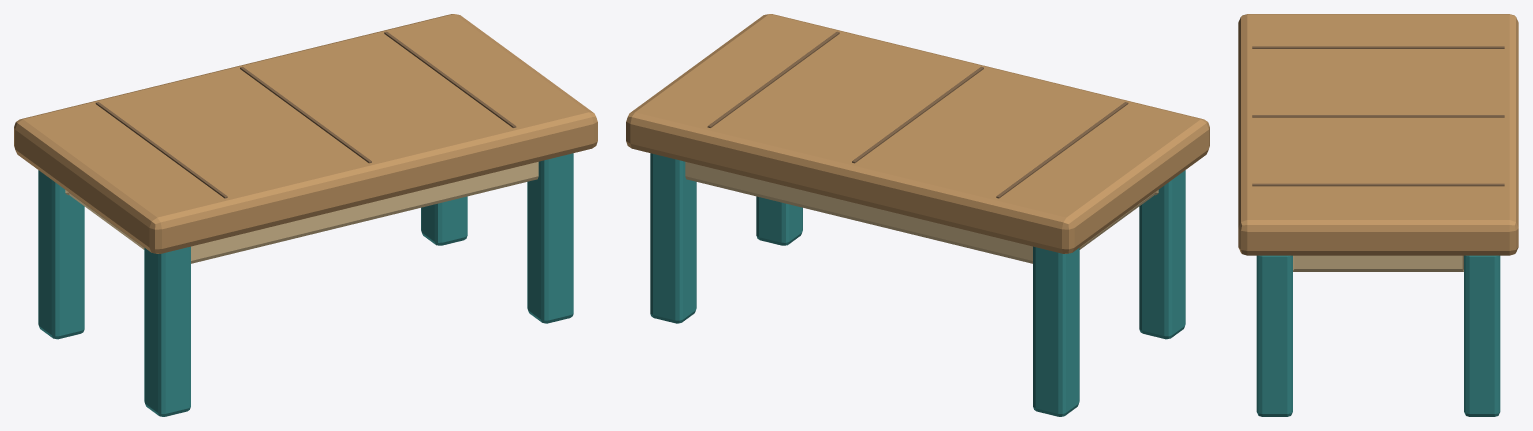
The model's file is S030_dining_table.glb.
3 renders of one model, left to right at view 1: azimuth 30°, elevation 25°; view 2: azimuth 150°, elevation 25°; view 3: azimuth 270°, elevation 25°, orthographic. The views are drawn at different scales.
Visible parts, largest first — view 1: tabletop, table_leg, table_leg.002, table_leg.001, long_apron, table_leg.003, painted_plank_seam.002, painted_plank_seam, painted_plank_seam.001; view 2: tabletop, table_leg.001, table_leg.003, table_leg, long_apron.001, table_leg.002, painted_plank_seam.002, painted_plank_seam, painted_plank_seam.001; view 3: tabletop, table_leg.002, table_leg.003, table_end_apron.001, painted_plank_seam.002, painted_plank_seam, painted_plank_seam.001.
Boxes of the visible parts, x1,y1,x2,y2 form: tabletop: (14, 14, 597, 253); table_leg: (144, 246, 190, 416); table_leg.002: (527, 153, 573, 323); table_leg.001: (38, 170, 84, 339); long_apron: (191, 162, 538, 263); table_leg.003: (421, 196, 467, 245); painted_plank_seam.002: (384, 31, 516, 127); painted_plank_seam: (95, 102, 227, 198); painted_plank_seam.001: (240, 66, 371, 163); tabletop: (626, 14, 1209, 253); table_leg.001: (1033, 246, 1079, 416); table_leg.003: (650, 153, 696, 323); table_leg: (1139, 170, 1185, 339); long_apron.001: (685, 162, 1032, 263); table_leg.002: (756, 196, 802, 245); painted_plank_seam.002: (707, 31, 839, 127); painted_plank_seam: (996, 102, 1128, 198); painted_plank_seam.001: (852, 66, 983, 163); tabletop: (1238, 14, 1518, 255); table_leg.002: (1256, 255, 1292, 416); table_leg.003: (1464, 255, 1500, 416); table_end_apron.001: (1293, 255, 1463, 271); painted_plank_seam.002: (1252, 183, 1504, 186); painted_plank_seam: (1252, 46, 1504, 48); painted_plank_seam.001: (1252, 115, 1504, 117).
Size of the model in its own units: 1.8 by 0.806 by 1.
